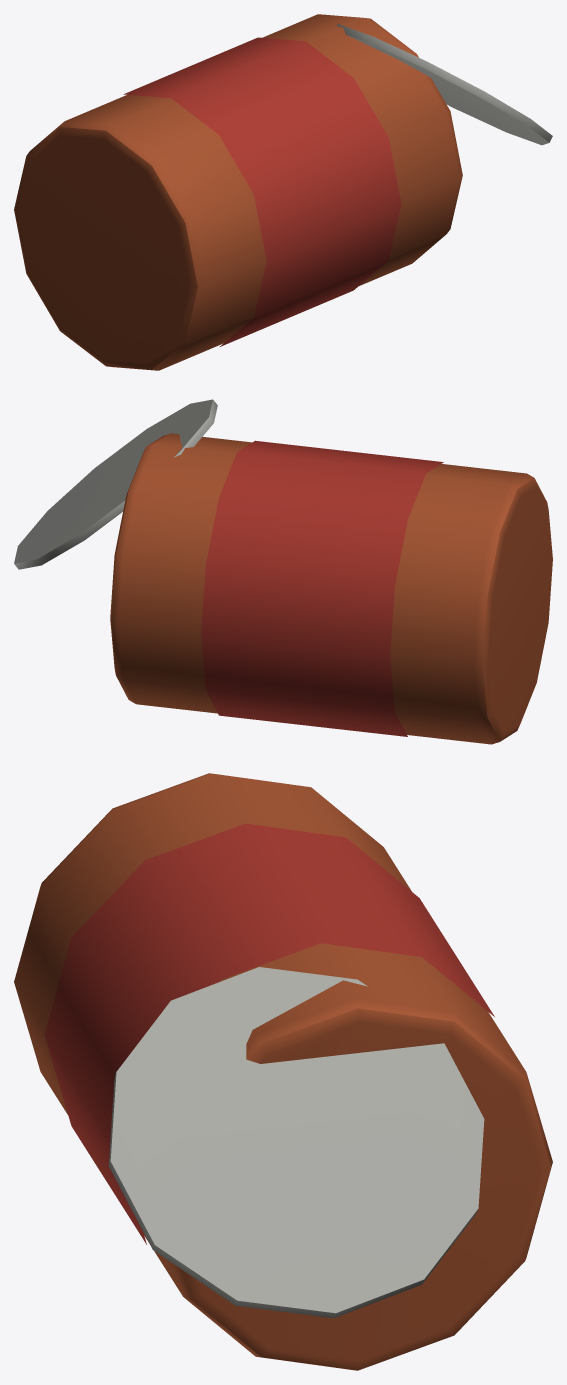
Rendered from junk_tinCan.glb.
The picture shows the model from 3 angles, top to bottom: view 1: azimuth 30°, elevation 25°; view 2: azimuth 150°, elevation 25°; view 3: azimuth 270°, elevation 25°; orthographic projection. The views are drawn at different scales.
Parts seen in each view (by area): view 1: junk_tinCan; view 2: junk_tinCan; view 3: junk_tinCan.
Boxes of the visible parts, bbox=[...] form: junk_tinCan: bbox=[14, 14, 552, 370]; junk_tinCan: bbox=[14, 399, 552, 744]; junk_tinCan: bbox=[14, 773, 552, 1370].
Size of the model in its own units: 0.1449 by 0.0727 by 0.0919.
